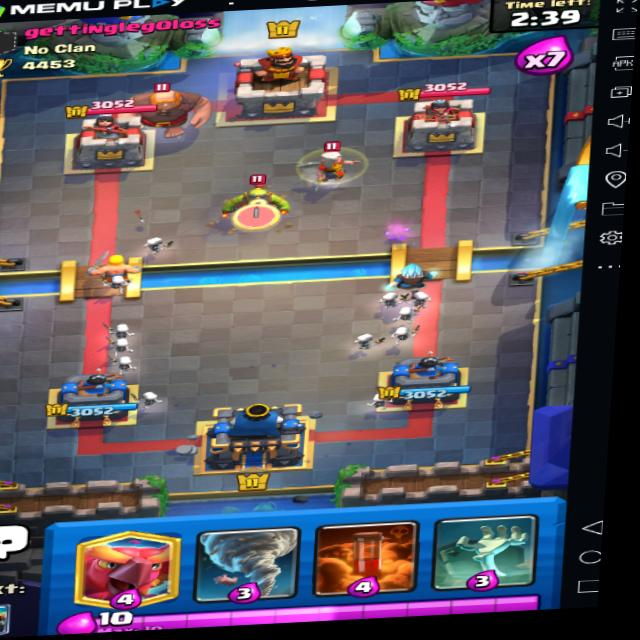Battlehealer: (284, 128, 376, 189)
Giant: (121, 73, 207, 137)
Goblindemolisher: (216, 169, 296, 227)
